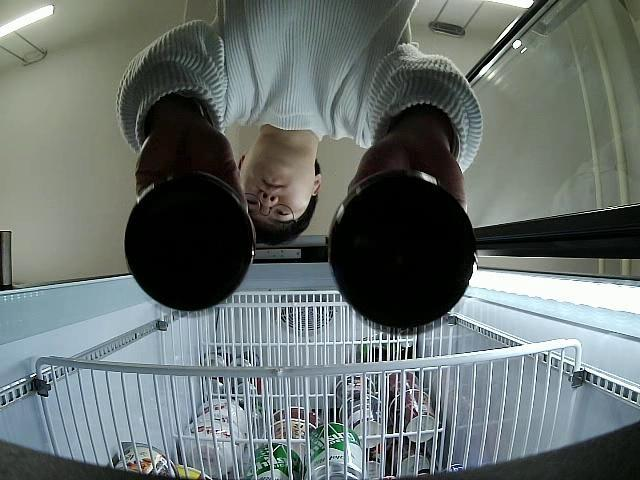17_vita500: (328, 174, 477, 332), (124, 175, 252, 312)
